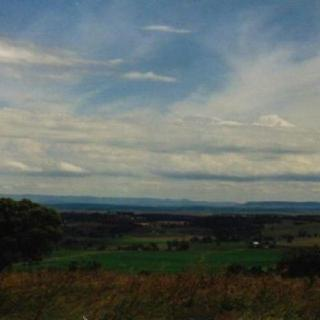Cirrostratus: (0, 0, 320, 216)
